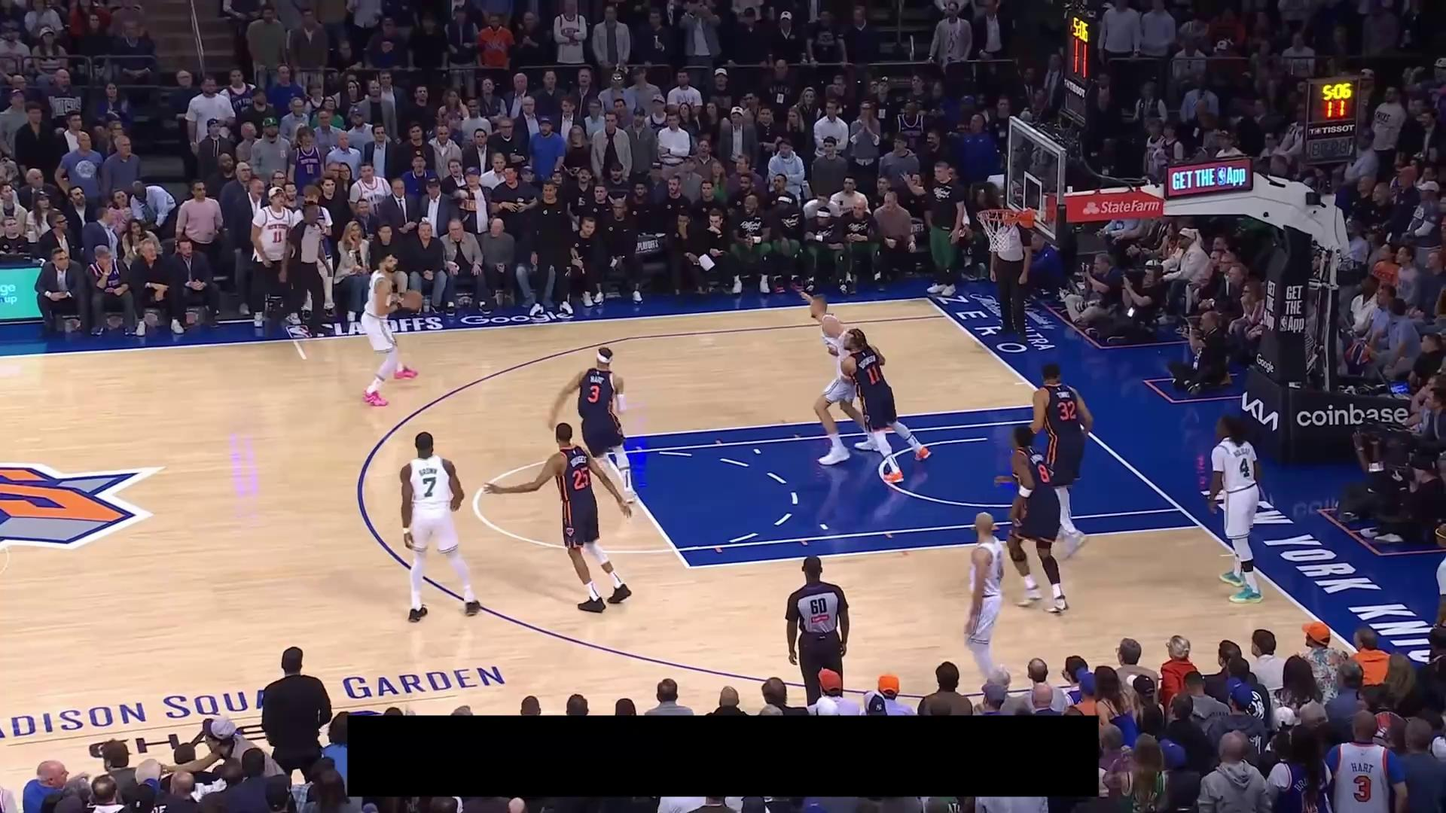ball: (401, 288, 423, 311)
number: (572, 466, 590, 490), (1057, 400, 1077, 421), (865, 364, 881, 385), (422, 476, 437, 498), (1039, 463, 1050, 483), (587, 385, 599, 403), (1240, 458, 1250, 478)
player: (480, 419, 635, 615), (398, 430, 481, 623), (546, 345, 643, 508), (992, 422, 1073, 617), (835, 326, 933, 486), (1019, 358, 1095, 561), (804, 291, 880, 466), (1205, 412, 1268, 605), (956, 509, 1015, 693)
player-in-possession: (358, 249, 423, 407)
referee: (784, 554, 850, 708), (276, 202, 333, 336), (989, 222, 1033, 343)
rim: (976, 208, 1021, 222)
